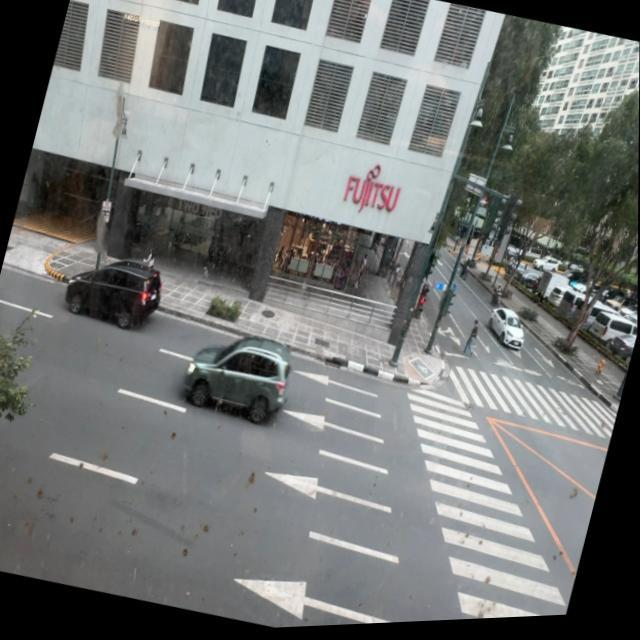jaywalking: (462, 317, 484, 357)
